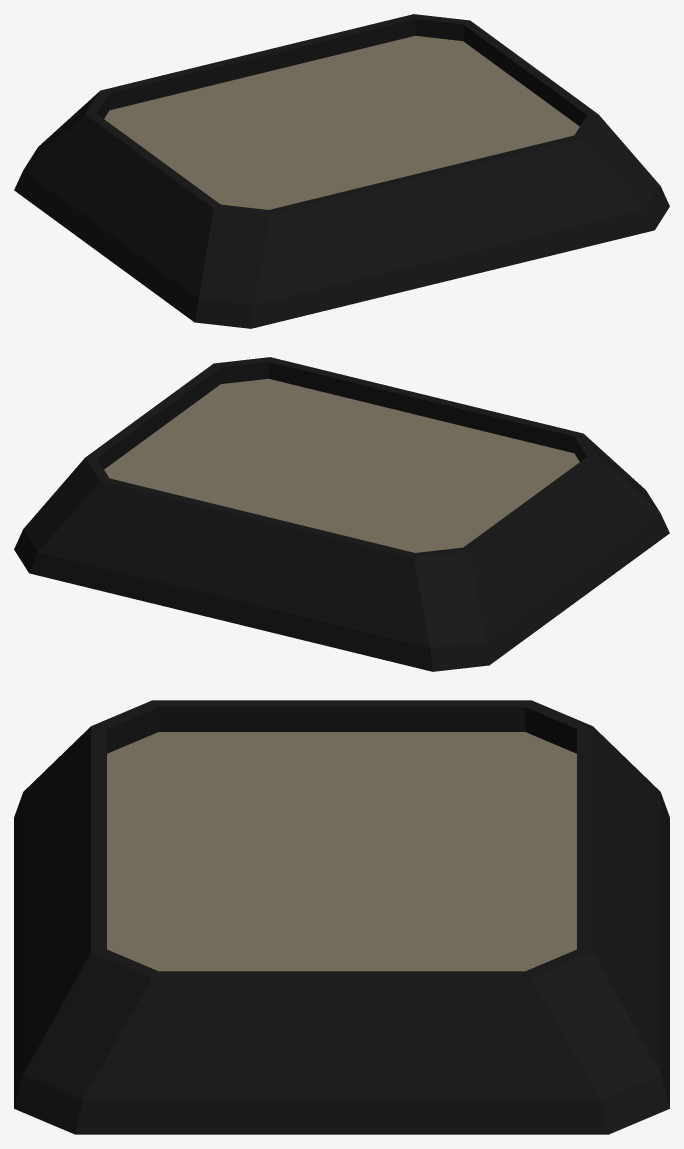
Rendered from SM_rainblock_02.fbx.
3 views of the same model, one above another, from view 1: azimuth 30°, elevation 25°; view 2: azimuth 150°, elevation 25°; view 3: azimuth 270°, elevation 25° (orthographic). The views are drawn at different scales.
Visible parts, largest first — view 1: rainblock_02; view 2: rainblock_02; view 3: rainblock_02.
Part boxes in pixels (x1,y1,x2,y2): rainblock_02: (14, 14, 669, 328); rainblock_02: (14, 357, 669, 671); rainblock_02: (14, 700, 669, 1134).
Bounding box in the file's own units: 280 × 47.3 × 227.
